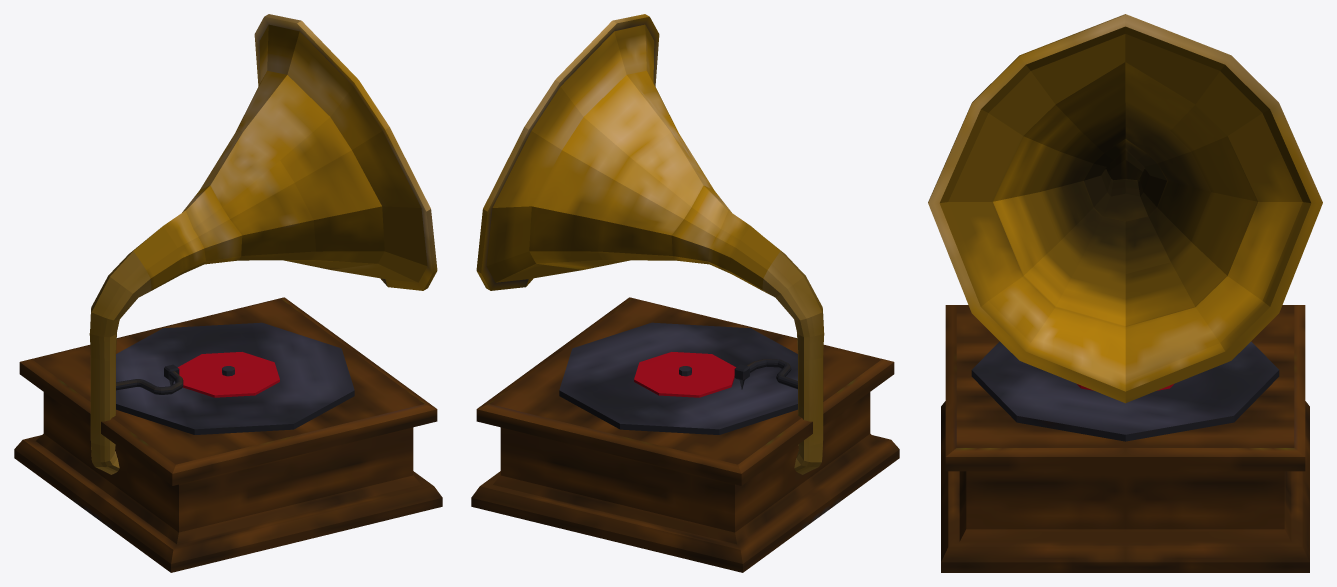
The model's file is E_Chromophone.fbx.
3 views of the same model, side by side, from view 1: azimuth 30°, elevation 25°; view 2: azimuth 150°, elevation 25°; view 3: azimuth 270°, elevation 25° (orthographic). The views are drawn at different scales.
Visible parts, largest first — view 1: Cube.078; view 2: Cube.078; view 3: Cube.078.
Boxes of the visible parts, <box> form: Cube.078: <box>14,14,442,572</box>; Cube.078: <box>471,14,899,572</box>; Cube.078: <box>928,14,1322,572</box>.
Size of the model in its own units: 77.82 by 109 by 74.71.
